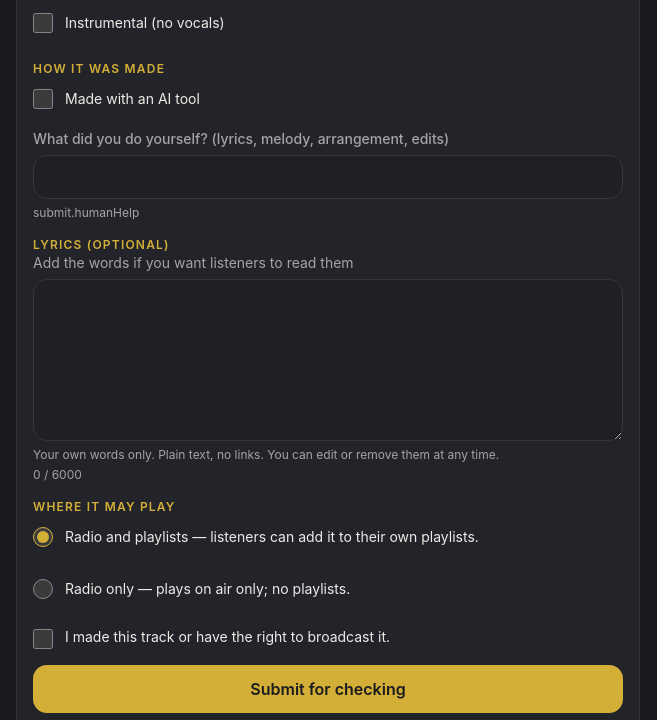
the submit form (H-123 task 4) › shows the server-reported limits and the lyrics counter (never hard-coded)
(page scrolled)
expect the text "0 / 6000" is shown: met, box left=33, top=467, right=82, bottom=482
# Typing updates the counter.
In the text box labelled "Add the words if you want listeners to read them": (328, 360) left=33, top=279, right=623, bottom=441, type "hello"
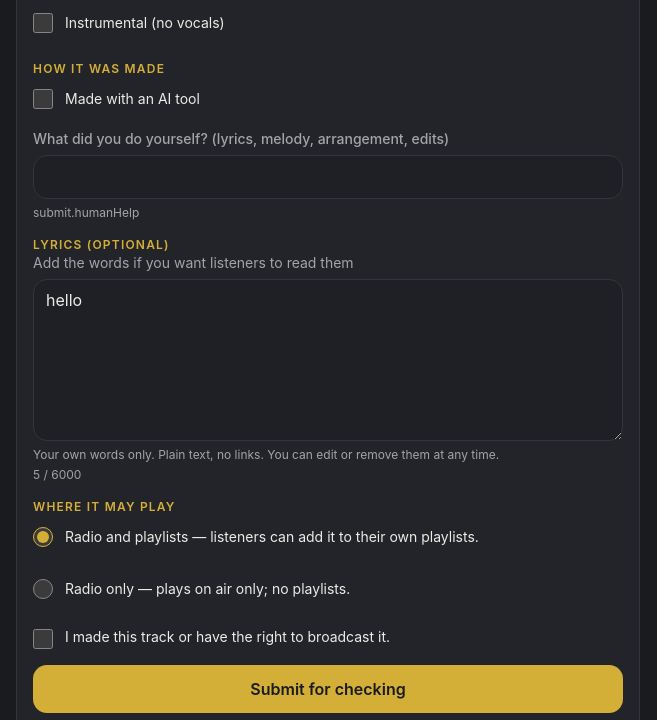
expect the text "5 / 6000" is shown: met, box left=33, top=467, right=81, bottom=482
